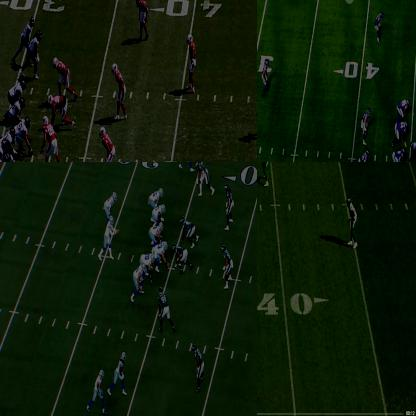CENTER: (16, 115, 32, 154), (157, 239, 171, 269), (408, 137, 415, 161)
DB: (188, 34, 199, 94), (346, 198, 357, 250), (138, 0, 150, 36), (259, 58, 271, 92), (373, 11, 383, 42)
LB: (113, 63, 128, 122), (43, 119, 61, 161), (196, 162, 213, 195), (100, 124, 115, 161), (220, 245, 232, 287), (223, 183, 233, 231), (193, 344, 202, 390), (257, 162, 271, 186), (362, 107, 371, 142), (357, 150, 369, 161)
QB: (106, 216, 116, 256)
SKILL: (24, 30, 41, 76), (15, 17, 33, 57), (90, 368, 104, 409), (113, 350, 125, 396), (147, 189, 164, 206), (106, 190, 117, 216)
